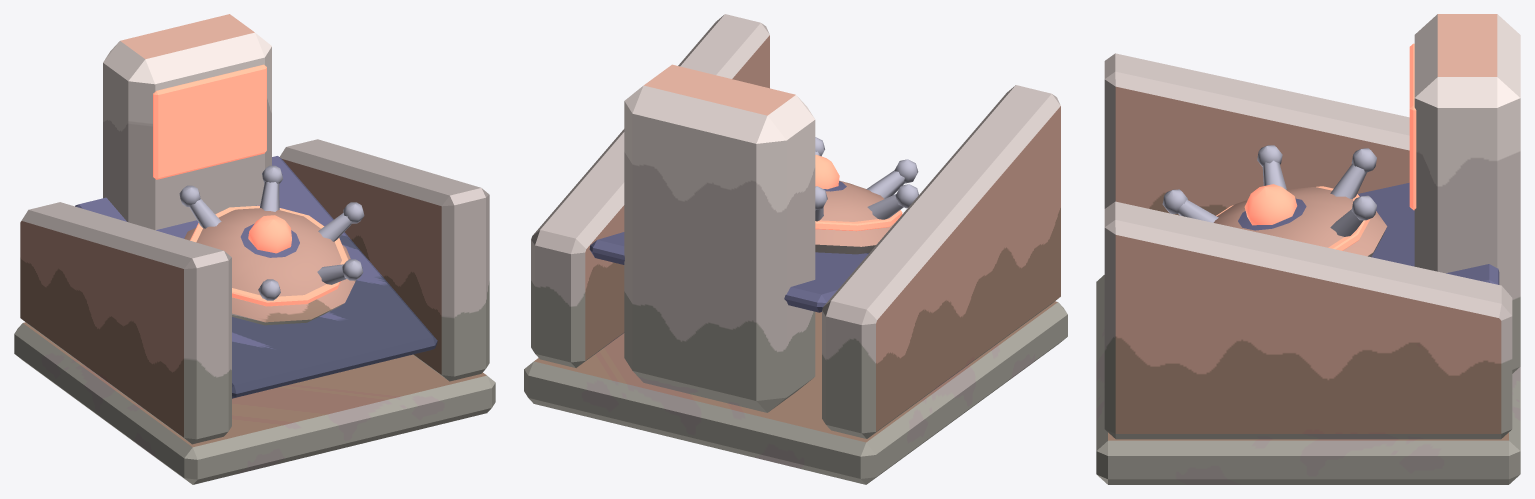
File: R4X_ExplosiveTrapDeployer_LOD1.glb
3 renders of one model, left to right at view 1: azimuth 30°, elevation 25°; view 2: azimuth 150°, elevation 25°; view 3: azimuth 270°, elevation 25°, orthographic. The views are drawn at different scales.
Parts seen in each view (by area): view 1: R4X_ExplosiveTrapDeployer_LOD1; view 2: R4X_ExplosiveTrapDeployer_LOD1; view 3: R4X_ExplosiveTrapDeployer_LOD1.
Boxes of the visible parts, x1,y1,x2,y2 form: R4X_ExplosiveTrapDeployer_LOD1: [14, 14, 495, 484]; R4X_ExplosiveTrapDeployer_LOD1: [524, 14, 1067, 484]; R4X_ExplosiveTrapDeployer_LOD1: [1096, 14, 1520, 484].
Bounding box in the file's own units: 0.52 × 0.48 × 0.52.
Materials: 5 (4 with a texture image).
